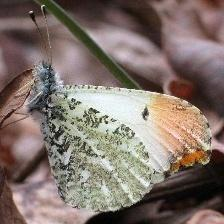butterfly: (24, 63, 212, 212)
